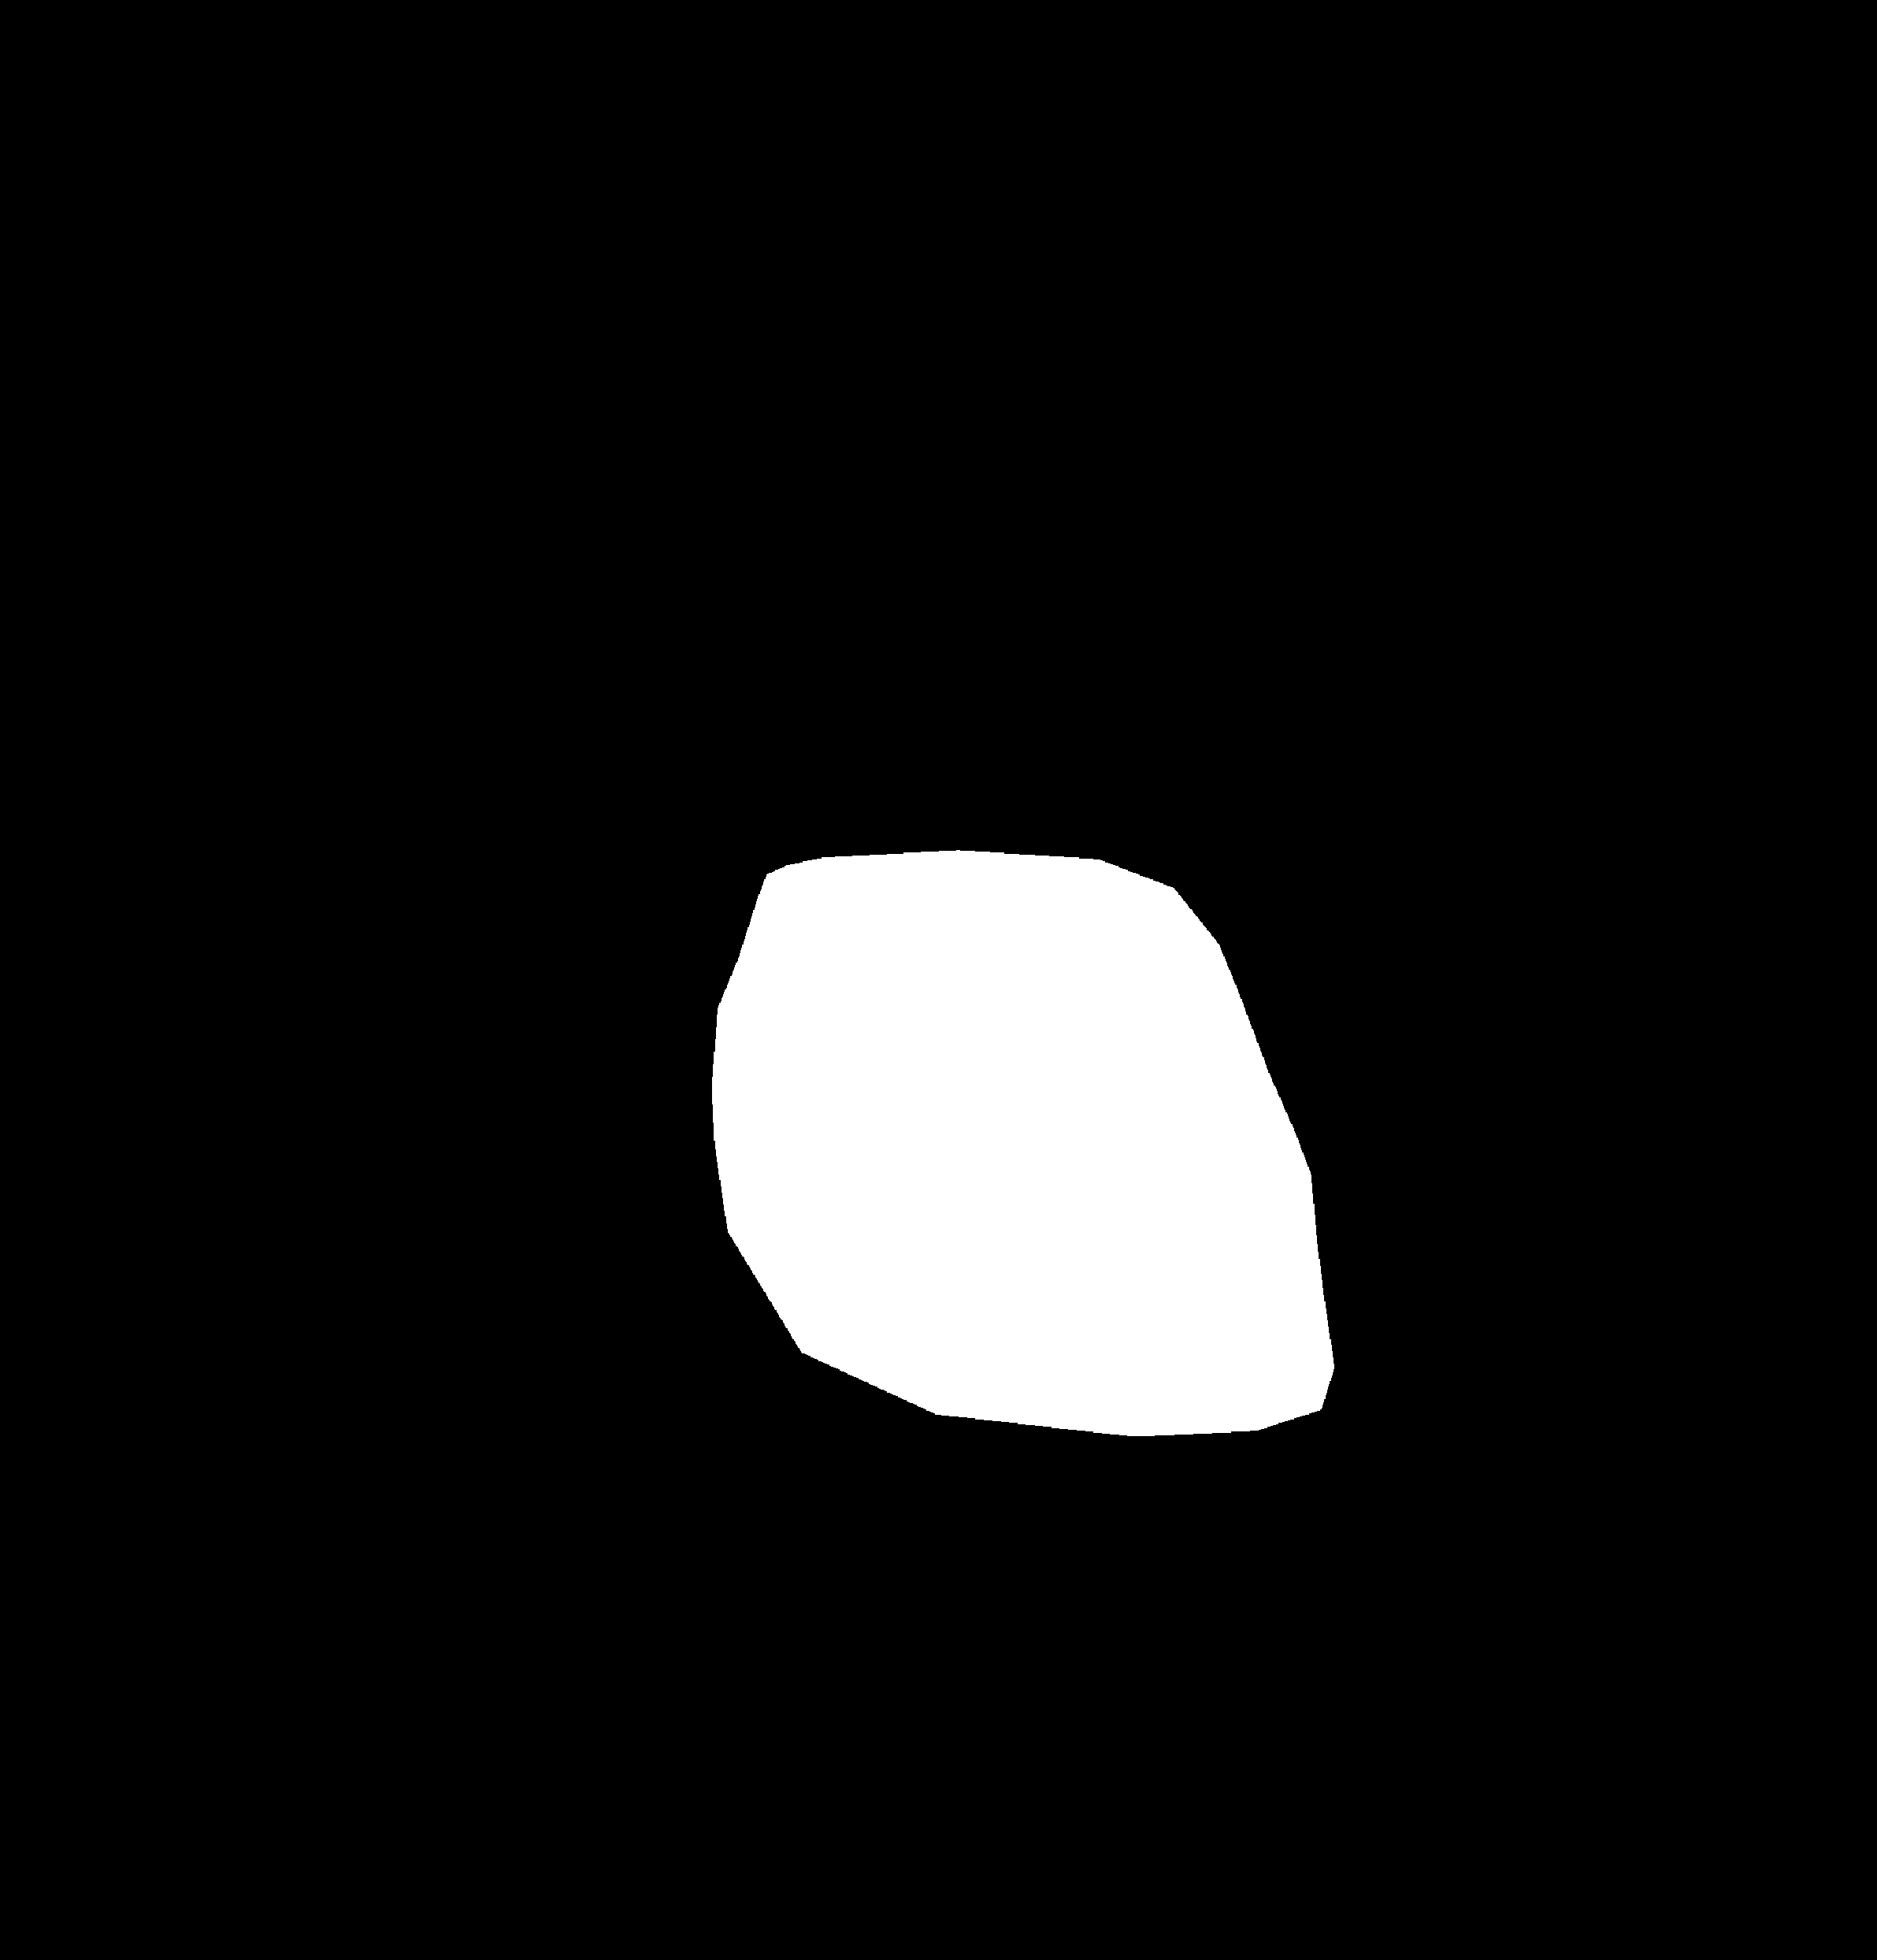heart: (710, 851, 1317, 1419)
left_lung: (145, 110, 843, 1652)
right_lung: (1023, 112, 1686, 1685)
